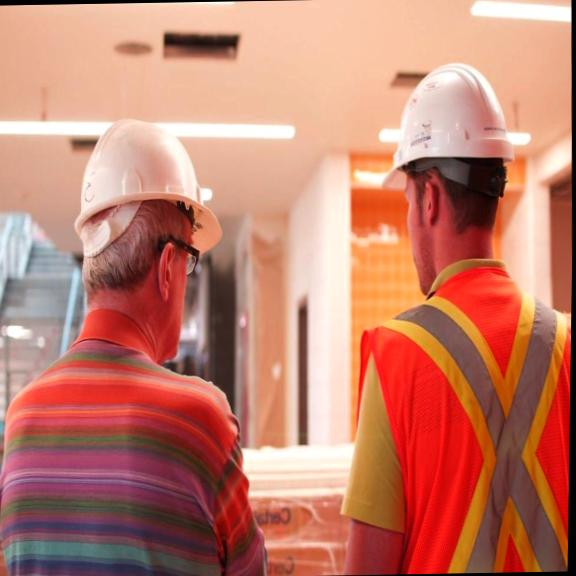no_safety_vest: (0, 364, 256, 576)
safety_vest: (344, 275, 572, 575)
